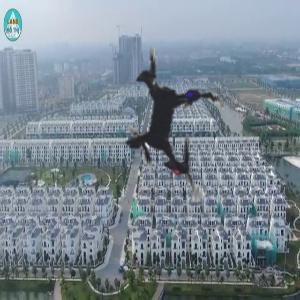drone: (52, 7, 289, 244)
